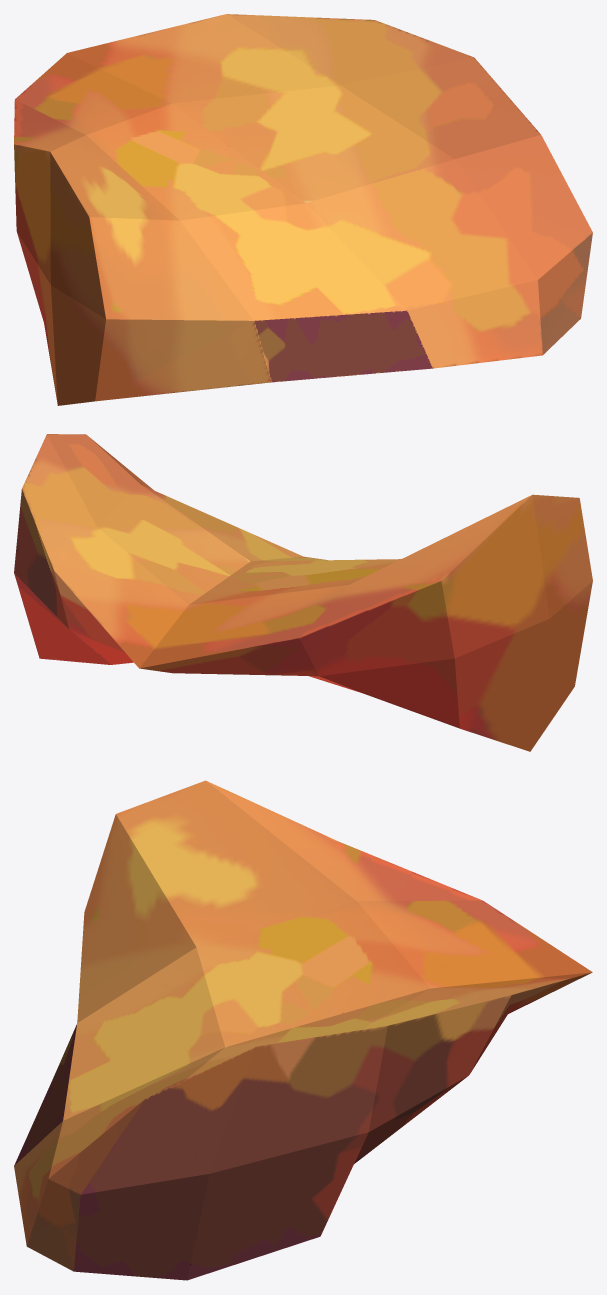
Rendered from Grips2Hollow.fbx.
3 views of the same model, one above another, from view 1: azimuth 30°, elevation 25°; view 2: azimuth 150°, elevation 25°; view 3: azimuth 270°, elevation 25° (orthographic). The views are drawn at different scales.
Visible parts, largest first — view 1: Grips2Hollow; view 2: Grips2Hollow; view 3: Grips2Hollow.
Boxes of the visible parts, bbox=[...] form: Grips2Hollow: bbox=[14, 14, 592, 405]; Grips2Hollow: bbox=[14, 434, 592, 751]; Grips2Hollow: bbox=[14, 780, 592, 1280].
Bounding box in the file's own units: 2.43 × 2.52 × 1.24.
Materials: 1 (1 with a texture image).
